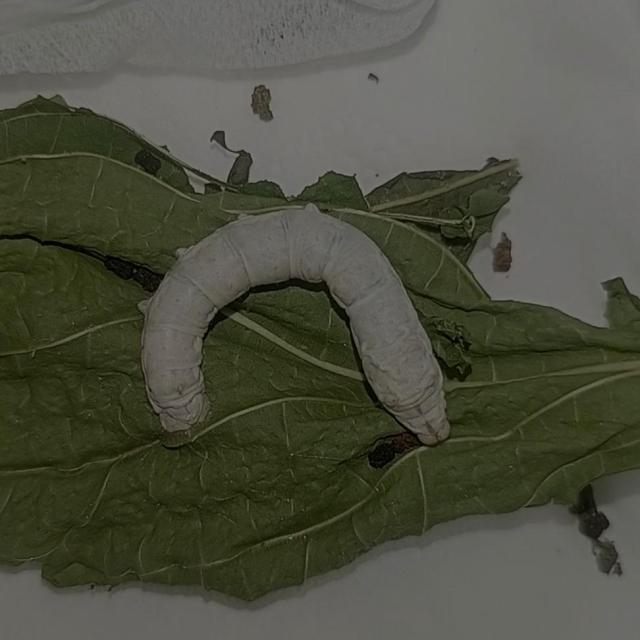Healthy: (130, 192, 467, 457)
